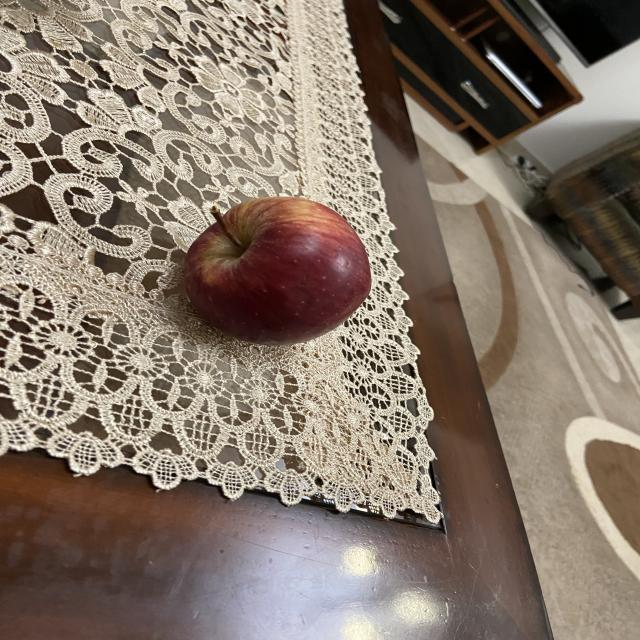apple: (174, 192, 377, 346)
